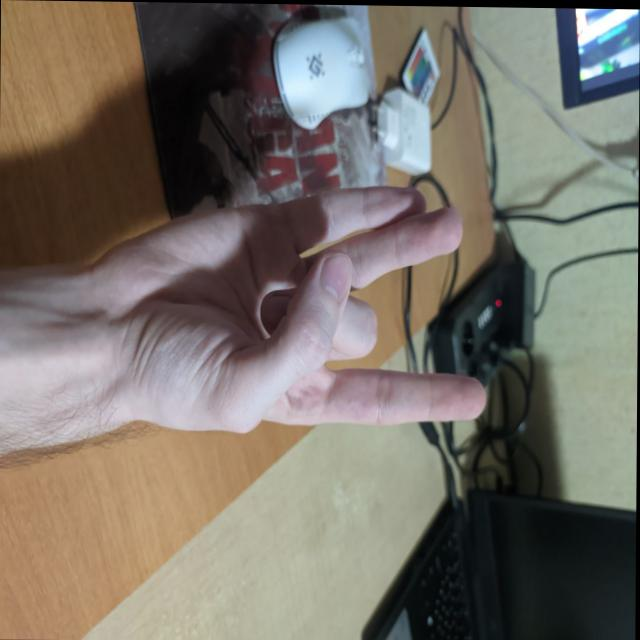r: (62, 129, 468, 489)
